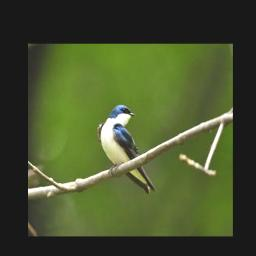Swallow: (97, 103, 157, 194)
